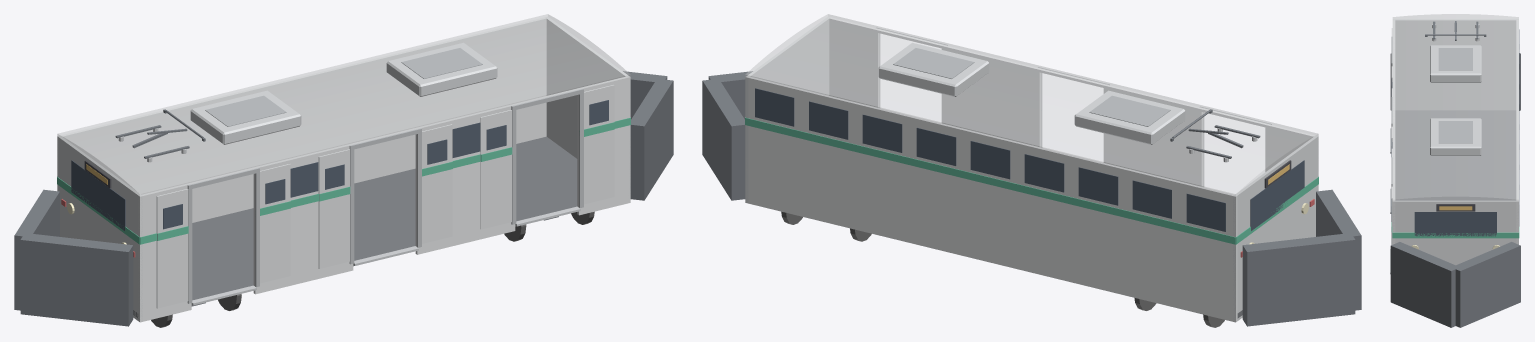
File: train.glb
3 renders of one model, left to right at view 1: azimuth 30°, elevation 25°; view 2: azimuth 150°, elevation 25°; view 3: azimuth 270°, elevation 25°, orthographic. The views are drawn at different scales.
Visible parts, largest first — view 1: Body, Roof, DoorLeaf_0_L, DoorLeaf_2_L, DoorLeaf_1_L, DoorLeaf_1_R, DoorLeaf_2_R, DoorLeaf_0_R; view 2: Body, Roof; view 3: Body, Roof, DoorLeaf_2_R.
Boxes of the visible parts, left/top/right/bottom form: Body: left=14, top=16, right=673, bottom=327; Roof: left=57, top=14, right=630, bottom=196; DoorLeaf_0_L: left=156, top=189, right=188, bottom=308; DoorLeaf_2_L: left=480, top=110, right=512, bottom=229; DoorLeaf_1_L: left=318, top=149, right=350, bottom=268; DoorLeaf_1_R: left=422, top=124, right=452, bottom=243; DoorLeaf_2_R: left=584, top=85, right=614, bottom=204; DoorLeaf_0_R: left=260, top=164, right=290, bottom=283; Body: left=702, top=16, right=1361, bottom=327; Roof: left=745, top=14, right=1318, bottom=196; Body: left=1390, top=19, right=1520, bottom=327; Roof: left=1392, top=14, right=1518, bottom=201; DoorLeaf_2_R: left=1391, top=186, right=1392, bottom=244.
Bounding box in the file's own units: 13.31 × 3.33 × 3.03.
